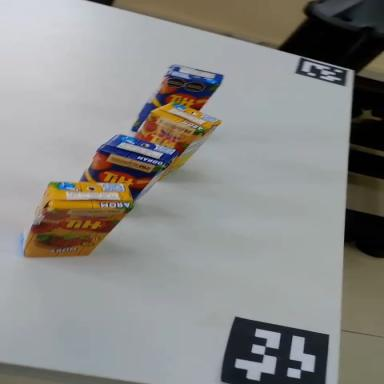HIT-MANGO: (123, 46, 226, 155), (80, 127, 179, 208)
HIT-MORA: (122, 83, 221, 184), (22, 182, 133, 258)
cara_F: (130, 58, 219, 157), (24, 206, 134, 257), (79, 147, 162, 205), (134, 109, 198, 160)
